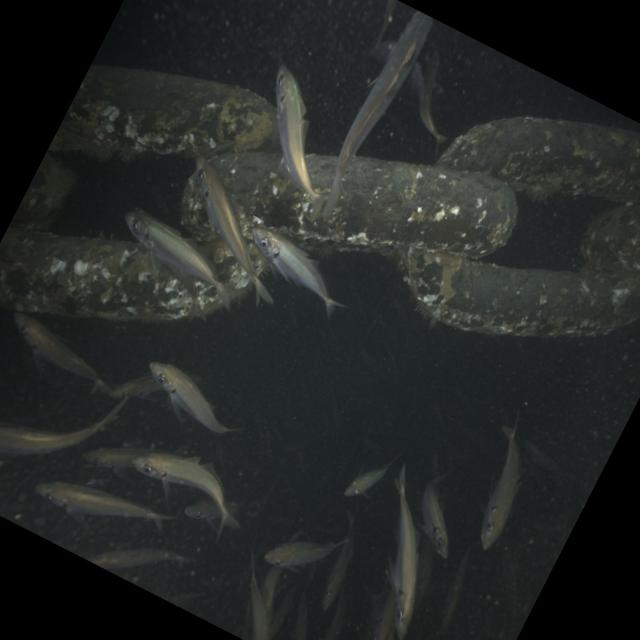ChainLink: (212, 153, 517, 258), (49, 65, 276, 158), (398, 248, 616, 337), (0, 230, 193, 322), (438, 117, 640, 203), (582, 204, 640, 274), (181, 175, 216, 239)
